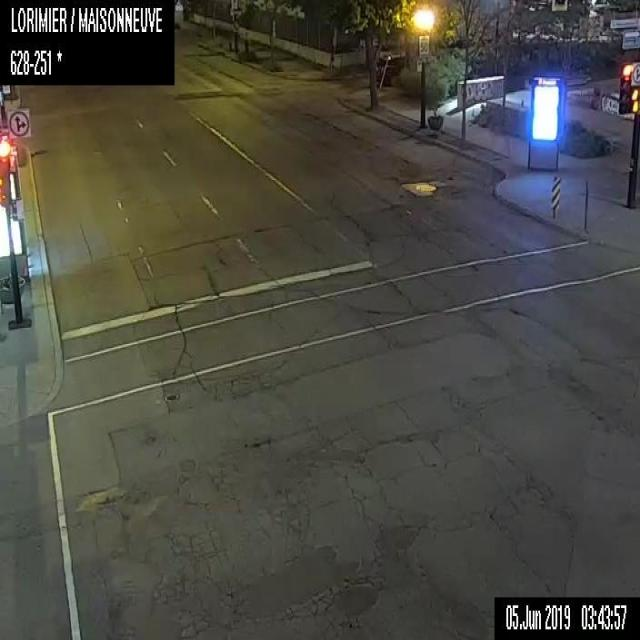vehicle: (376, 50, 406, 84)
